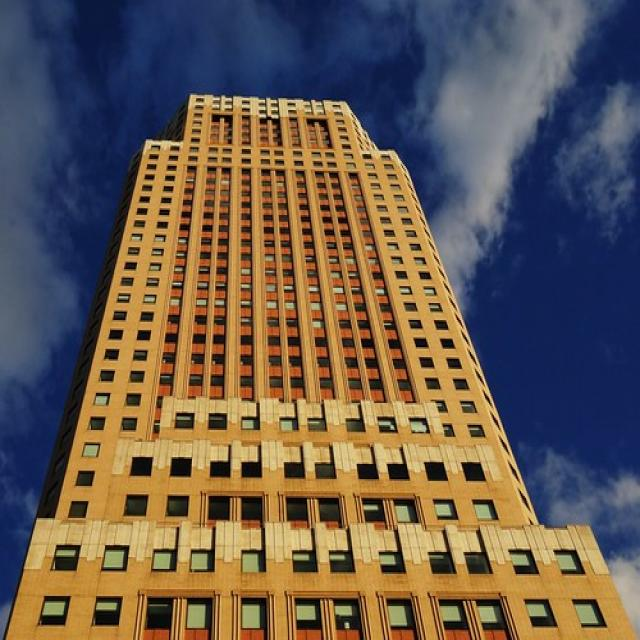Normal_building: (11, 78, 635, 638)
